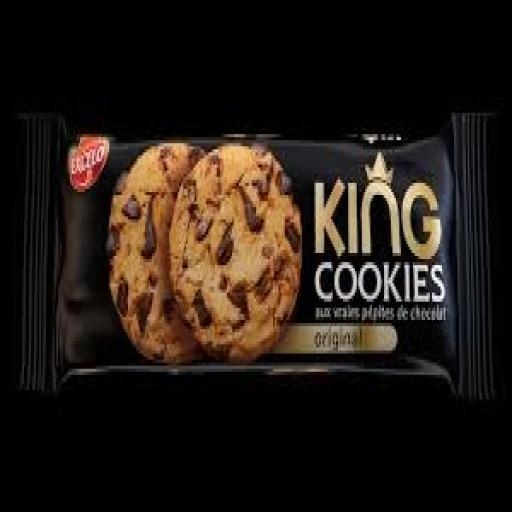king-cooking: (14, 72, 506, 421)
